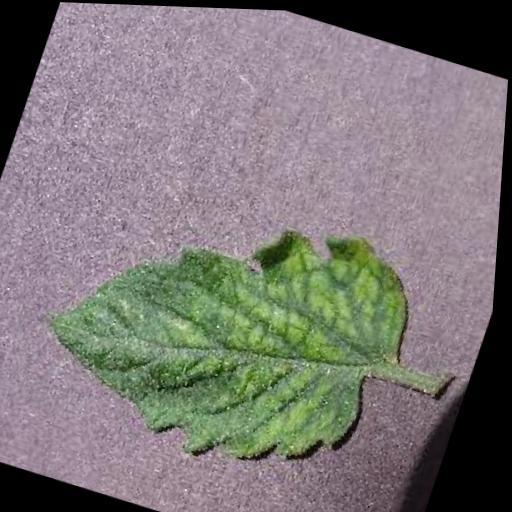Mosaic Virus: (7, 151, 440, 500)
